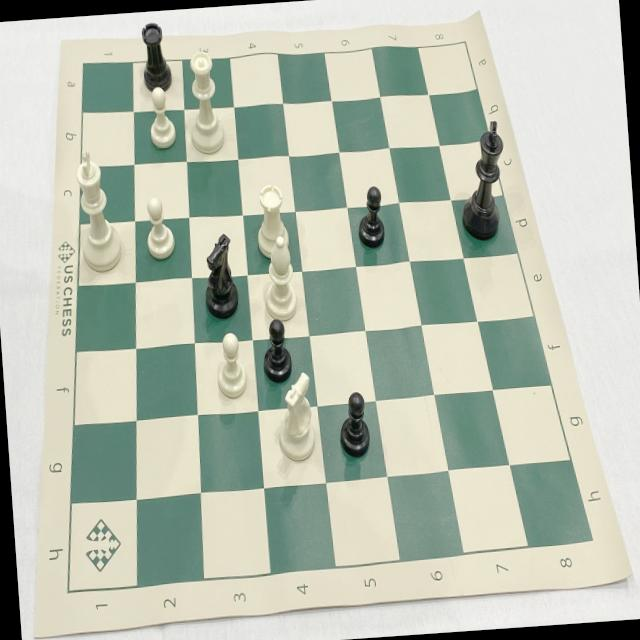black-king: (452, 113, 517, 245)
black-knight: (196, 225, 244, 328)
black-pawn: (332, 383, 376, 462), (350, 178, 390, 254), (256, 312, 296, 384)
black-rook: (138, 13, 174, 98)
white-bishop: (255, 232, 306, 326)
white-king: (68, 141, 130, 280)
white-knight: (270, 366, 322, 470)
white-pawn: (138, 192, 180, 263), (212, 329, 250, 407), (142, 80, 182, 154)
white-queen: (180, 43, 232, 159)
white-rook: (250, 178, 293, 264)
